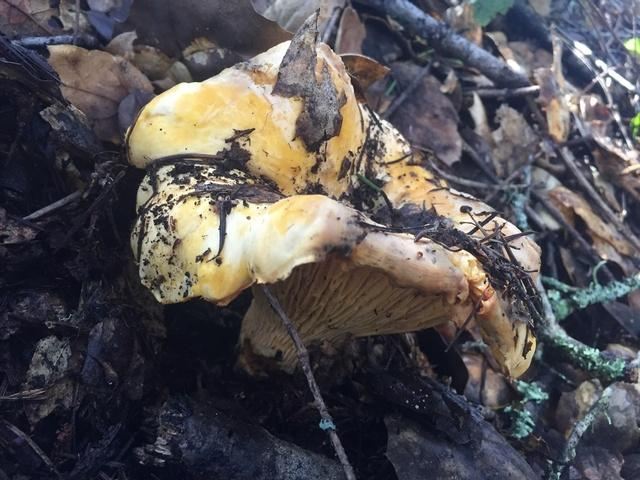Edible Mushroom: (123, 9, 545, 386)
